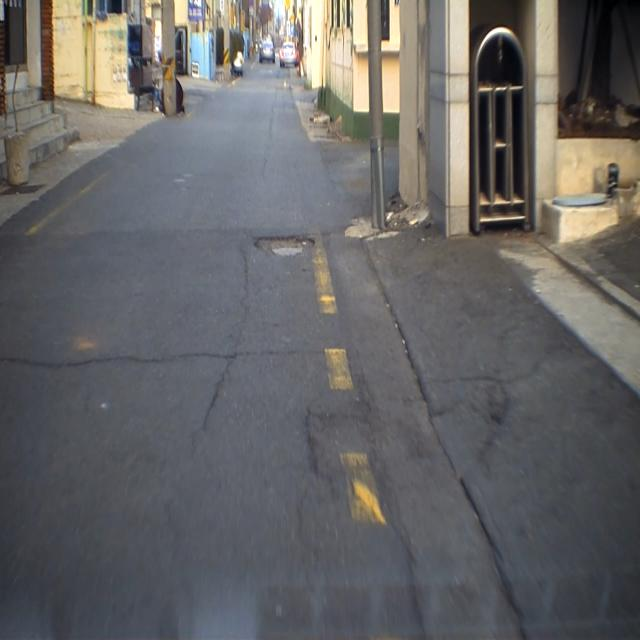Pothole: (250, 229, 320, 271)
